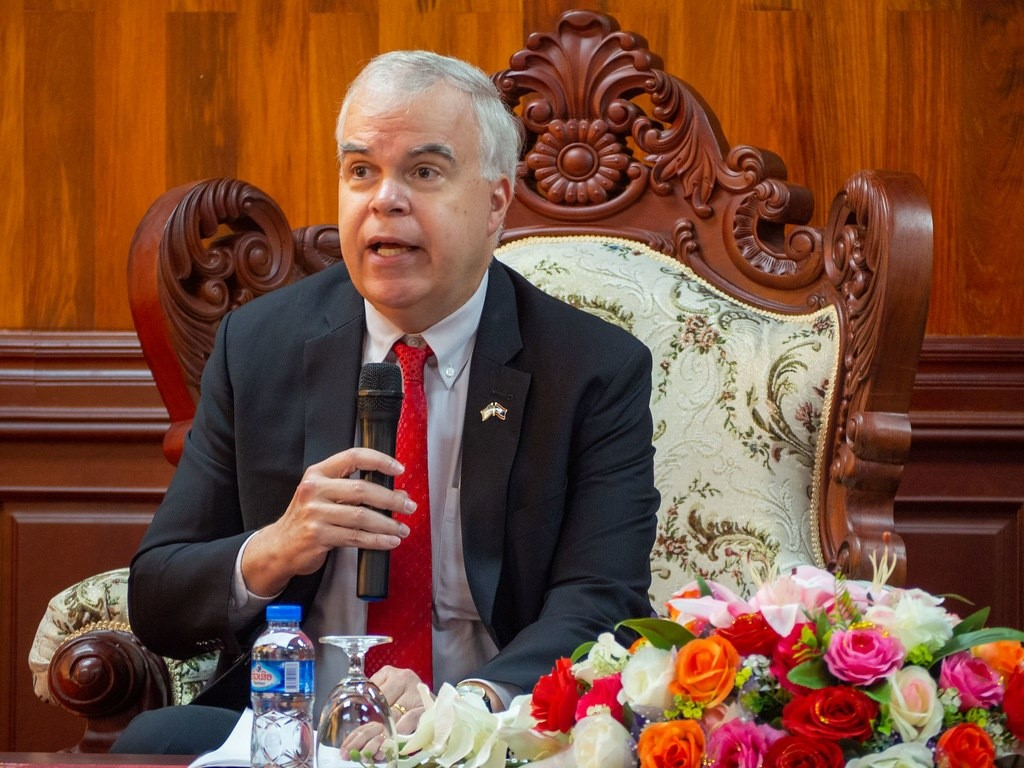face_no_mask: (336, 51, 519, 313)
